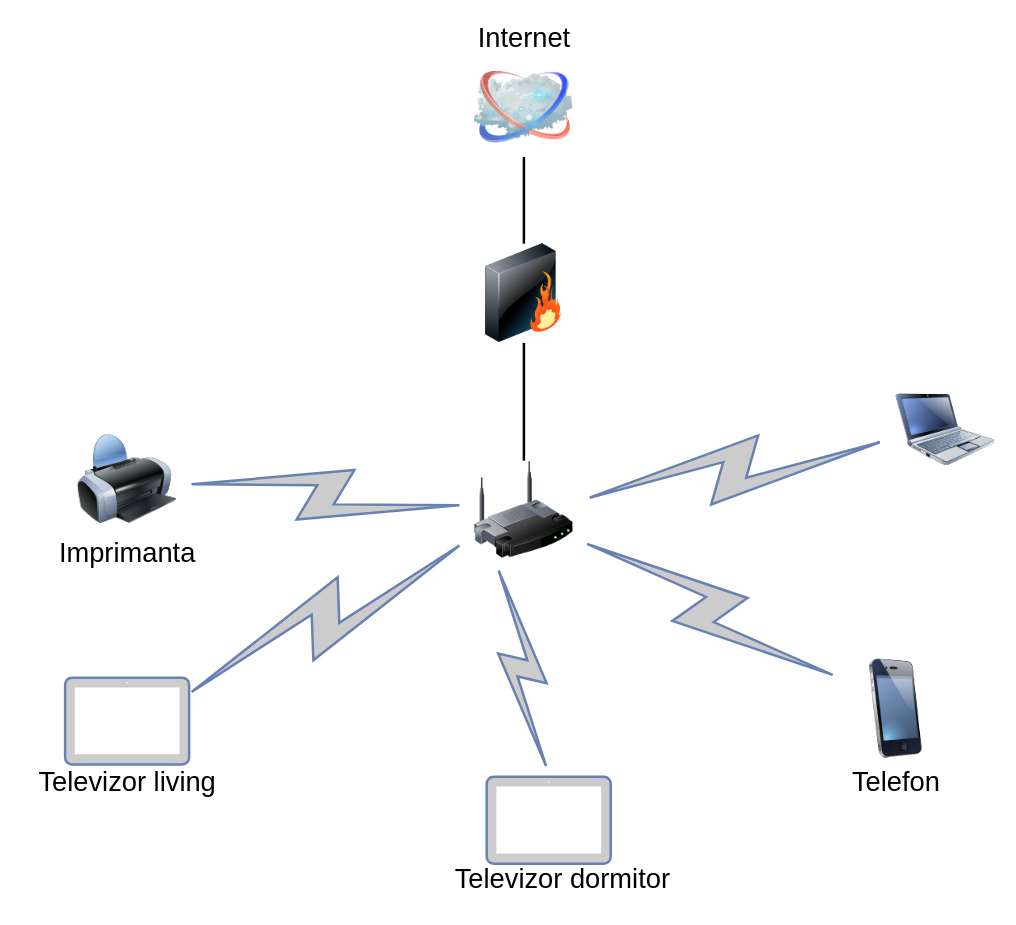
The diagram is 1016 pixels wide and 925 high, and some of its shapes have lost their labels. The centre of each missing label's shape, as x and y in pixels:
"Firewall" goes at (523,292).
"Laptop" goes at (944,429).
